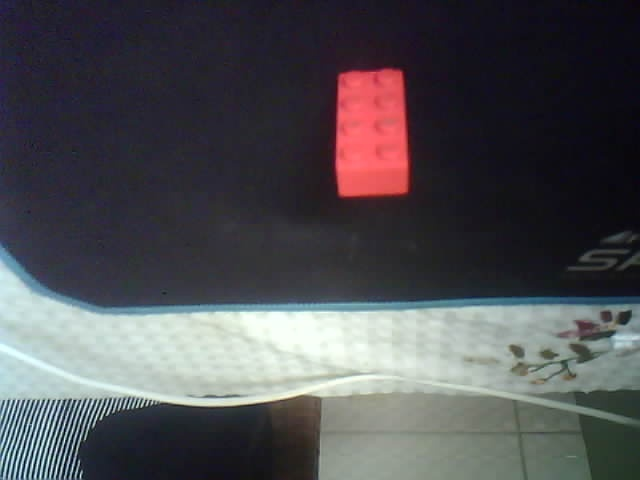lego: (333, 68, 409, 199)
